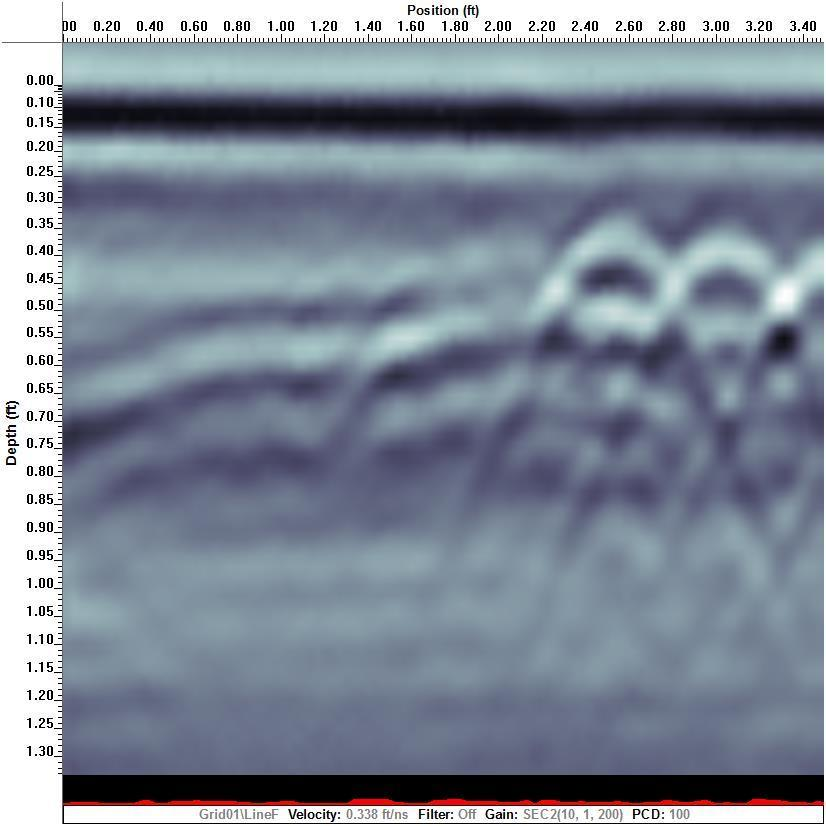hyperbola: (649, 222, 789, 502), (553, 211, 693, 491)
